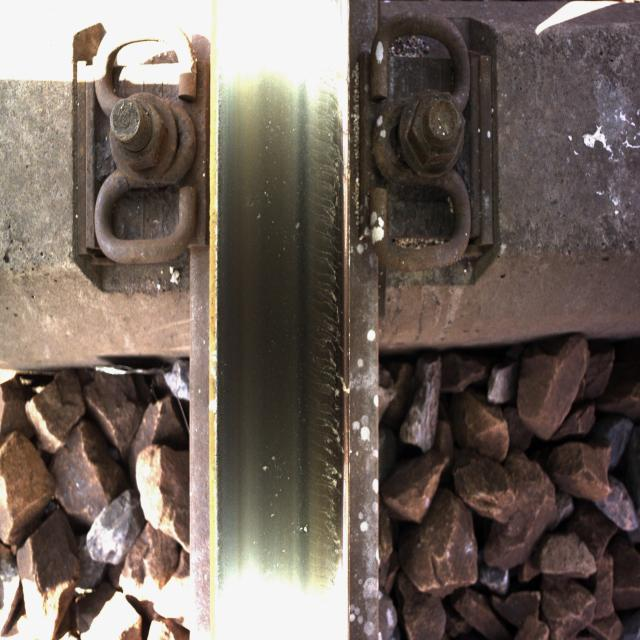scar: (290, 76, 349, 585)
